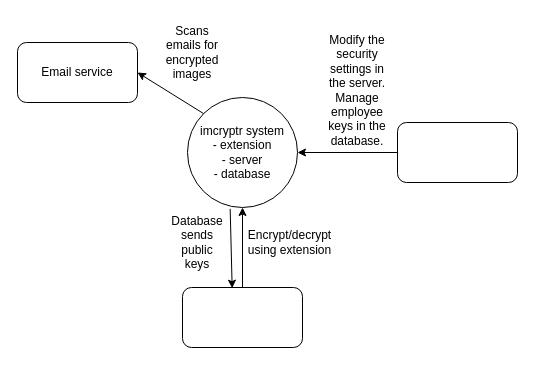
Image size: 535x365. Some labels were removed from this diagram. The centre of each missing label's shape, as x and y in pixels:
"Company IT dept" belongs at (457,152).
"Users" belongs at (242,317).
